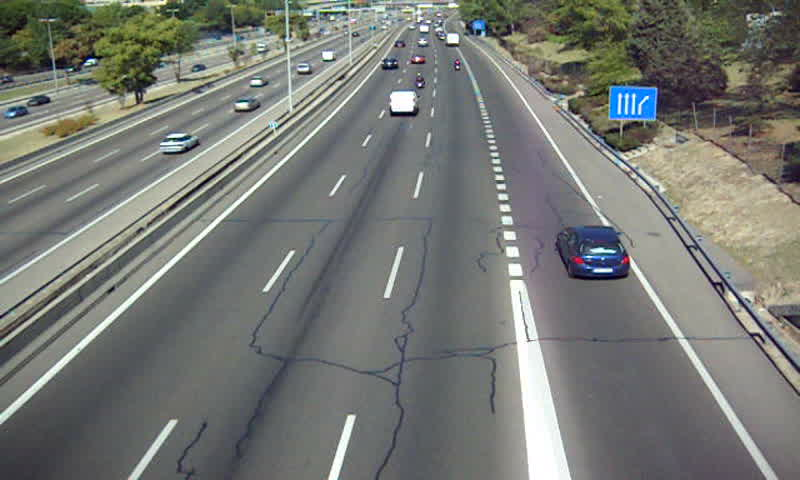car: (557, 224, 629, 278), (380, 58, 396, 70), (410, 54, 425, 66)
motorcycle: (412, 70, 425, 92), (453, 57, 463, 74)
van: (390, 90, 417, 118)
